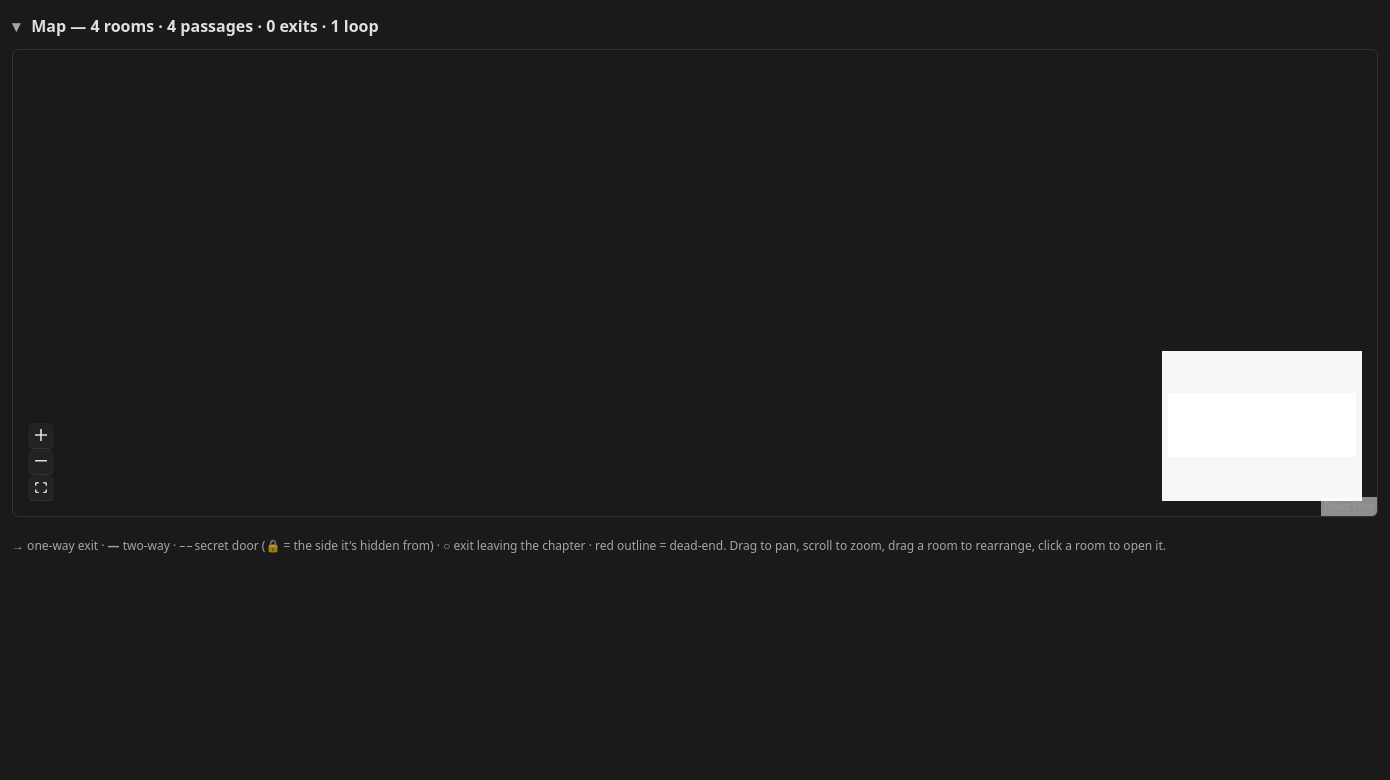
Test: ChapterMap: the title collapses and expands the canvas
Expected: the element with test id "map-canvas" is shown, [12, 49, 1378, 517]
Click the button "▾ Map — 4 rooms · 4 passages · 0 exits · 1 loop".
click(59, 26)  # box [12, 12, 1378, 41]
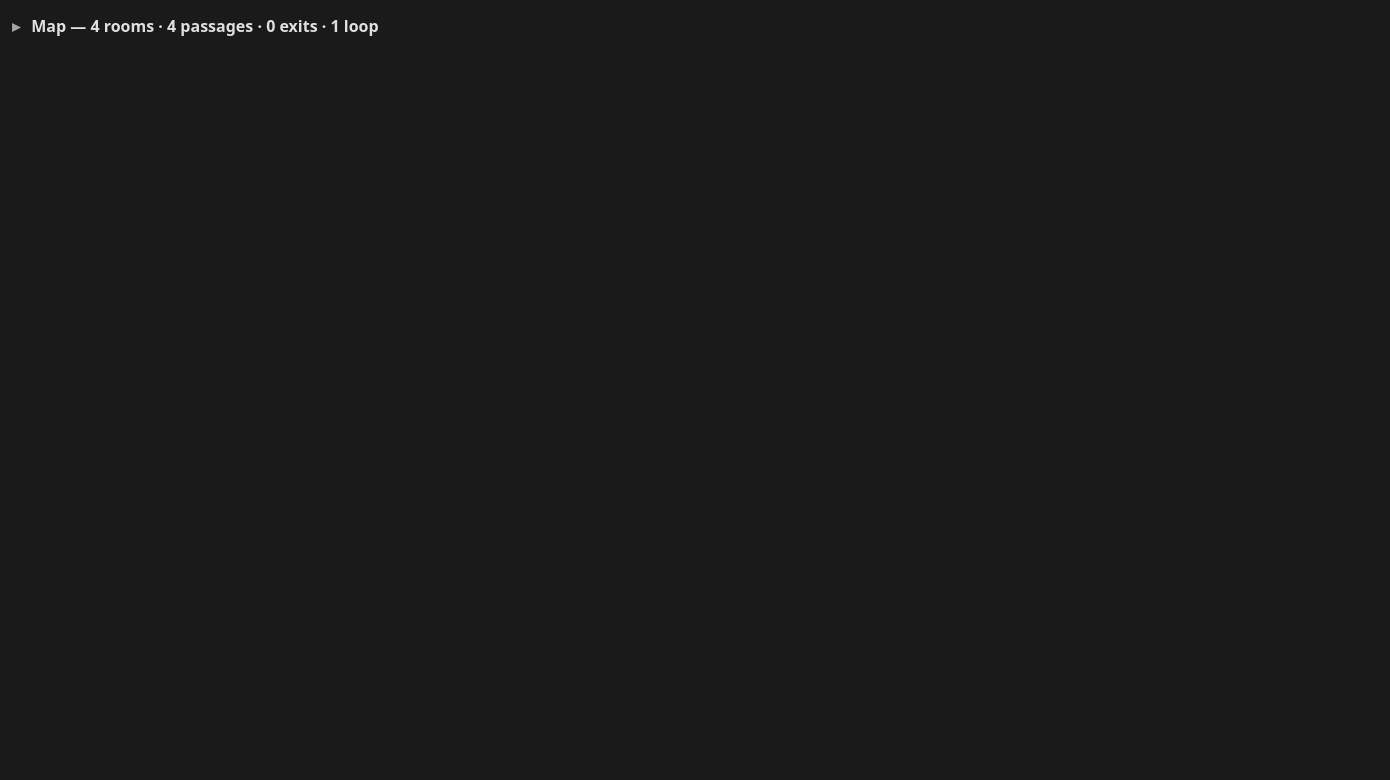
Now the element with test id "map-canvas" is gone
